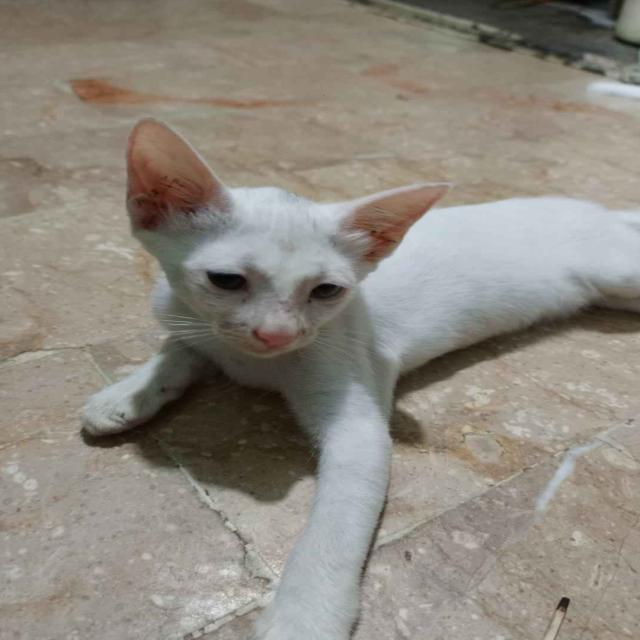Khao Manee: (75, 114, 639, 640)
